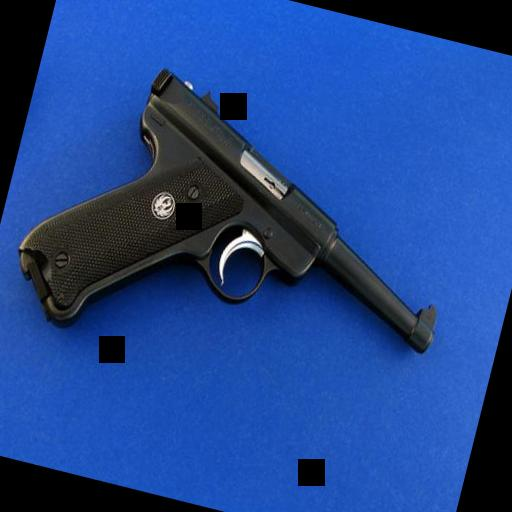Handgun: (0, 38, 481, 418)
